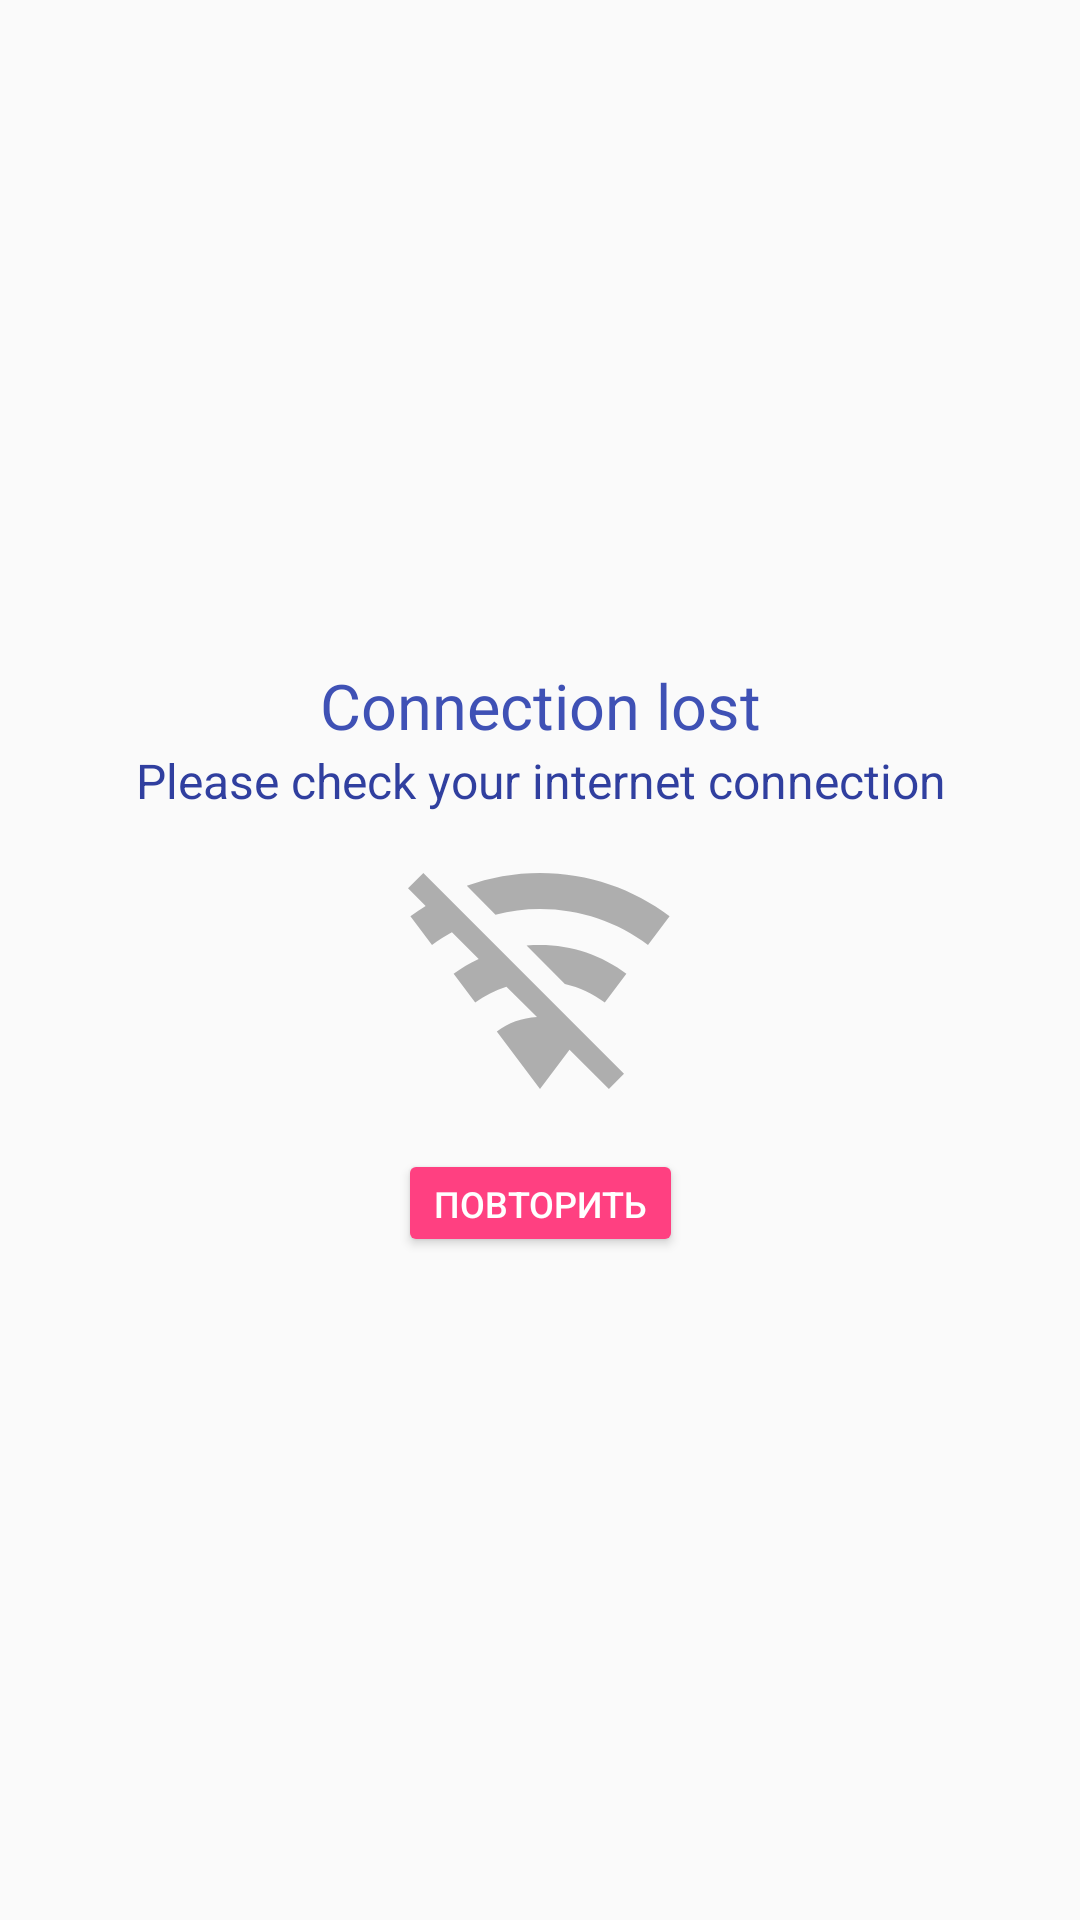

Where to tap for icons on this 1080x1920 app screen, as point (x, y):
wifi off: point (539, 981)
